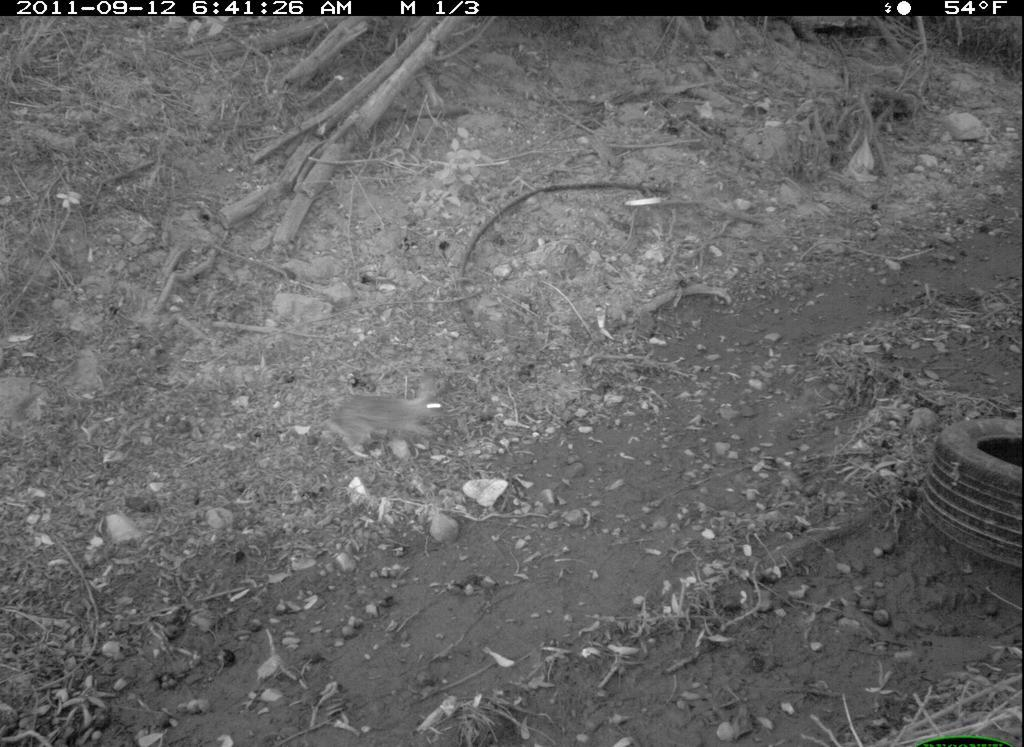rabbit: (309, 365, 475, 473)
